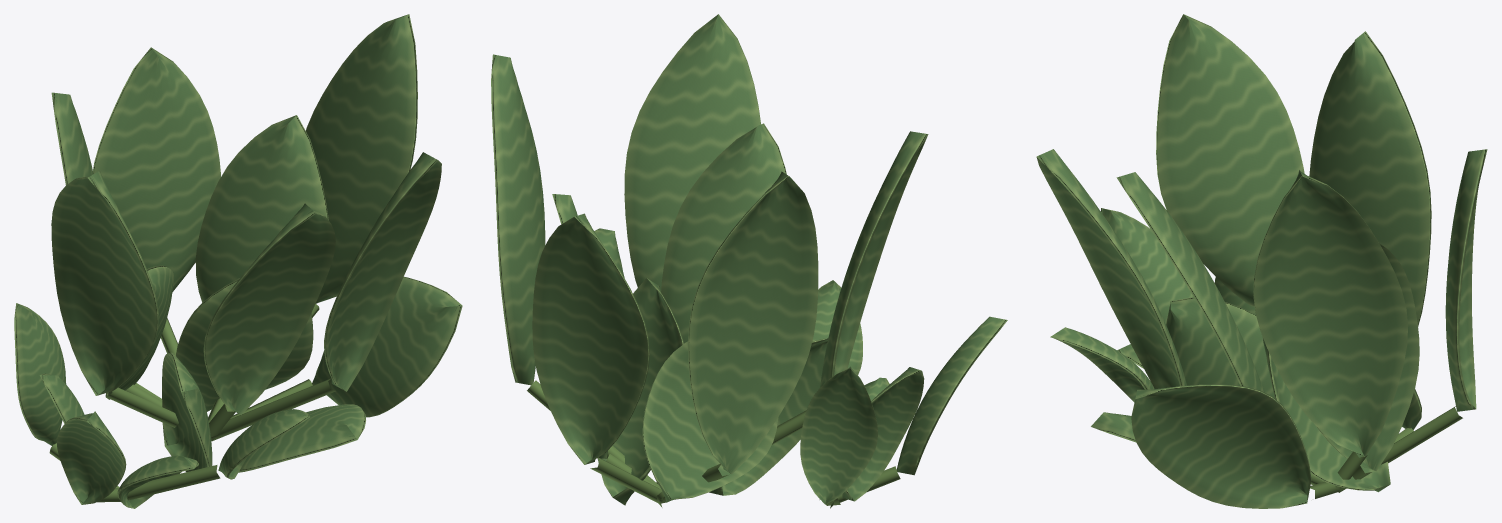
File: sansevieria-stage-6.glb
3 views of the same model, side by side, from view 1: azimuth 30°, elevation 25°; view 2: azimuth 150°, elevation 25°; view 3: azimuth 270°, elevation 25° (orthographic). The views are drawn at different scales.
Visible parts, largest first — view 1: Leaf_9, Leaf_11, Leaf_10, Leaf_7, Leaf_6, Leaf_8, Leaf_3, PlantBranches, Leaf_16, Leaf_14, Leaf_2, Leaf_0 (+6 smaller); view 2: Leaf_5, Leaf_9, Leaf_8, Leaf_11, Leaf_7, Leaf_4, Leaf_16, Leaf_10, Leaf_1, Leaf_14, Leaf_13, Leaf_2 (+2 smaller); view 3: Leaf_11, Leaf_10, Leaf_5, Leaf_3, Leaf_8, Leaf_9, Leaf_7, Leaf_2, Leaf_1, Leaf_14, Leaf_6, Leaf_15 (+2 smaller).
Boxes of the visible parts, x1,y1,x2,y2 form: Leaf_9: (93,47,220,292); Leaf_11: (306,14,417,303); Leaf_10: (51,171,158,395); Leaf_7: (203,203,335,414); Leaf_6: (195,115,328,302); Leaf_8: (324,152,441,391); Leaf_3: (312,276,462,417); PlantBranches: (49,304,335,502); Leaf_16: (14,303,66,445); Leaf_14: (56,411,126,504); Leaf_2: (162,352,212,471); Leaf_0: (238,404,365,472); Leaf_5: (688,171,818,474); Leaf_9: (532,213,649,464); Leaf_8: (624,14,760,290); Leaf_11: (491,54,545,385); Leaf_7: (661,123,786,343); Leaf_4: (642,341,778,502); Leaf_16: (800,366,877,504); Leaf_10: (820,131,928,386); Leaf_1: (597,278,683,505); Leaf_14: (896,316,1007,475); Leaf_13: (842,367,924,501); Leaf_2: (709,338,828,495); Leaf_11: (1253,170,1408,456); Leaf_10: (1156,14,1304,306); Leaf_5: (1309,31,1431,326); Leaf_3: (1131,384,1311,508); Leaf_8: (1036,149,1186,388); Leaf_9: (1445,149,1487,411); Leaf_7: (1116,172,1264,392); Leaf_2: (1166,297,1274,398); Leaf_1: (1262,337,1390,492); Leaf_14: (1100,208,1193,323); Leaf_6: (1315,243,1419,471); Leaf_15: (1050,327,1154,402).
Bounding box in the file's own units: 1.65 × 1.49 × 1.47.
2 materials, 1 textured.
